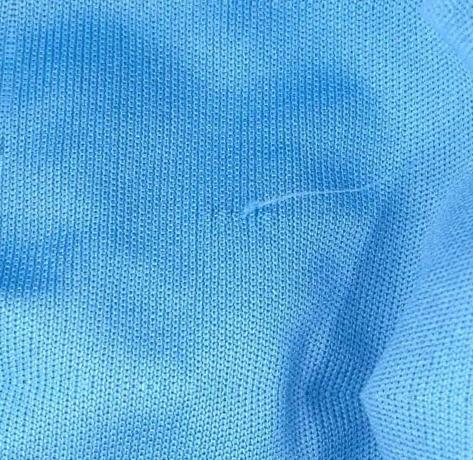snag: (229, 177, 403, 237)
